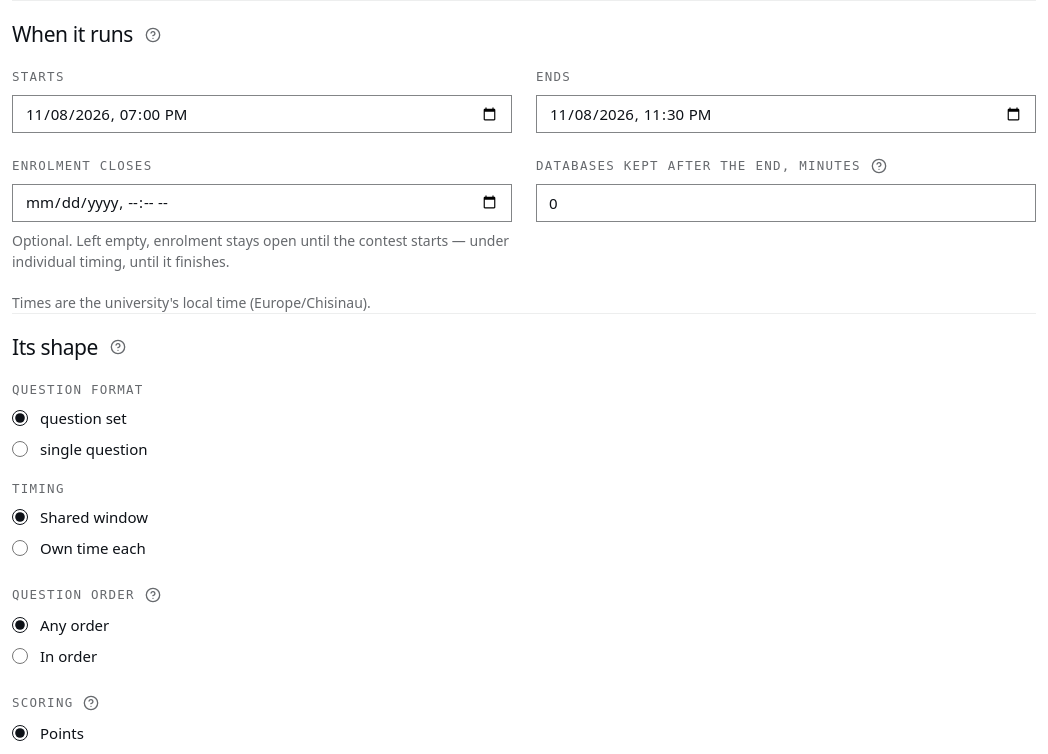
Test: ContestPanel, rules on screen and explanations behind a question mark › opens an explanation from its question mark
The image size is (1048, 754).
Click the button named "Hint" next to "Question order" at (153, 595), box top-left (141, 583), bottom-right (165, 607)
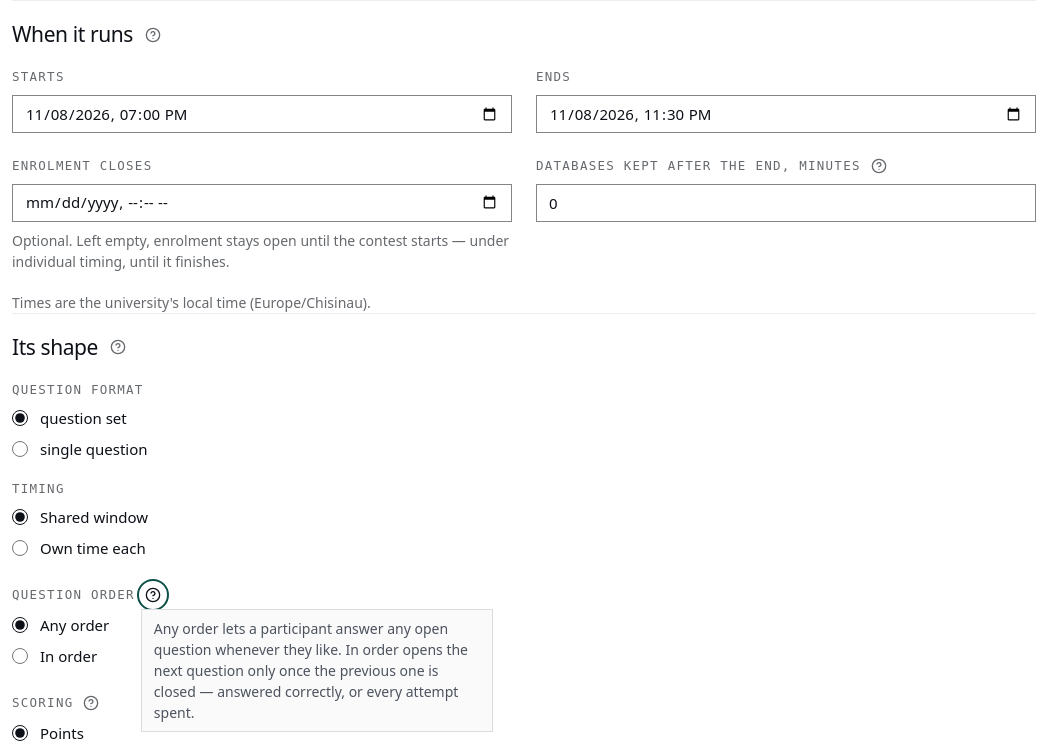
Check: the tooltip "Any order lets a participant answer any open question whenever they like. In order opens the next question only once the" is shown, box top-left (154, 619), bottom-right (468, 722)
